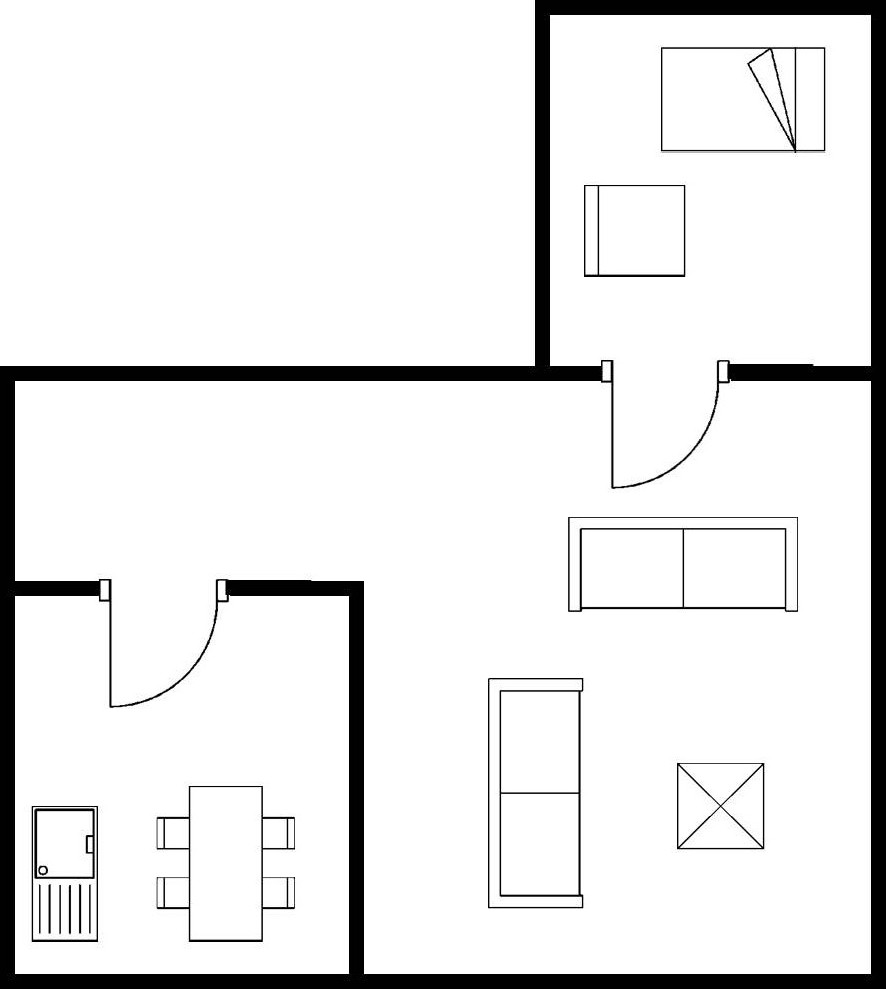bed: (653, 41, 832, 159)
coffee_table: (671, 758, 772, 857)
dining_table: (153, 779, 301, 949)
large_sofa: (483, 674, 591, 914), (562, 511, 803, 618)
sink: (26, 801, 105, 949)
small_sofa: (577, 180, 690, 281)
